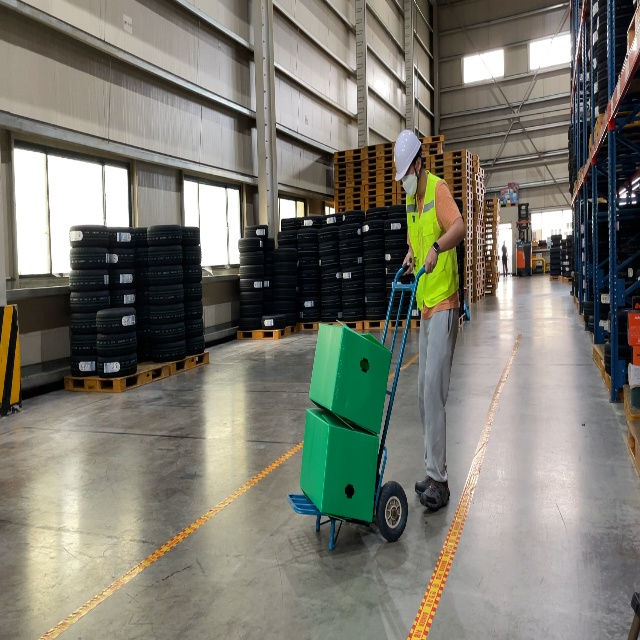Box: (308, 319, 393, 435), (299, 407, 380, 523)
Worker: (393, 128, 466, 510)
